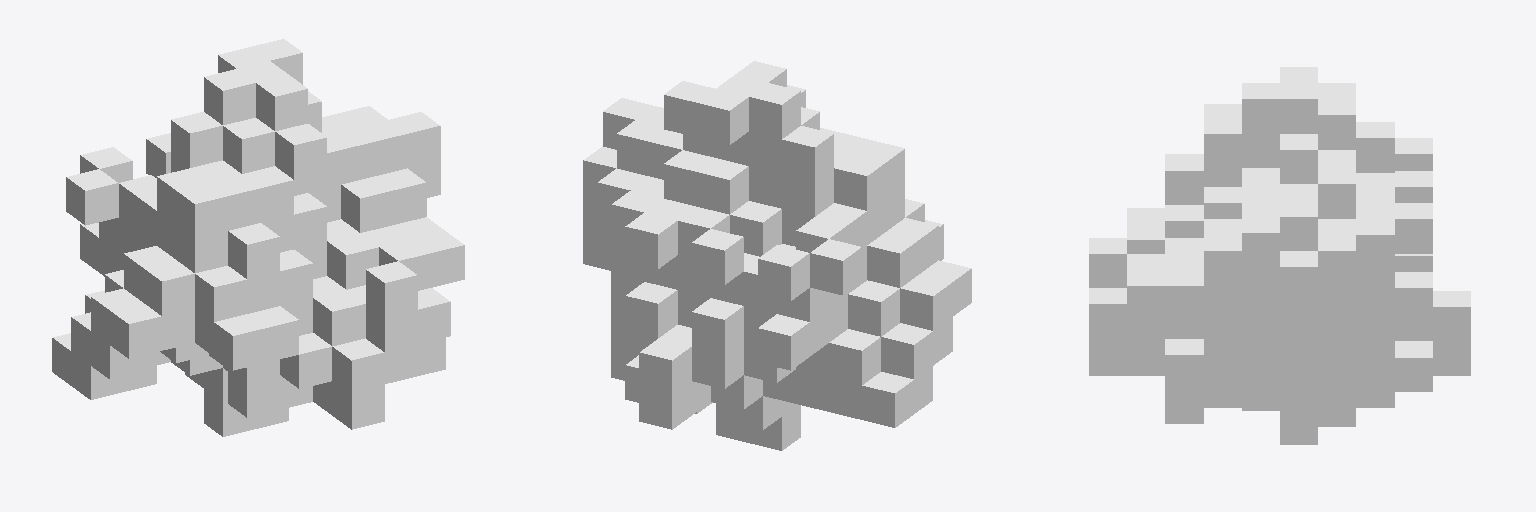
Rendered from SandP-Chunk.obj.
3 views of the same model, side by side, from view 1: azimuth 30°, elevation 25°; view 2: azimuth 150°, elevation 25°; view 3: azimuth 270°, elevation 25° (orthographic).
Parts seen in each view (by area): view 1: SandP_Chunk; view 2: SandP_Chunk; view 3: SandP_Chunk.
Part boxes in pixels (x1,y1,x2,y2): SandP_Chunk: (52, 39, 464, 436); SandP_Chunk: (583, 61, 971, 450); SandP_Chunk: (1089, 67, 1470, 444).
Bounding box in the file's own units: 10 × 10 × 10.